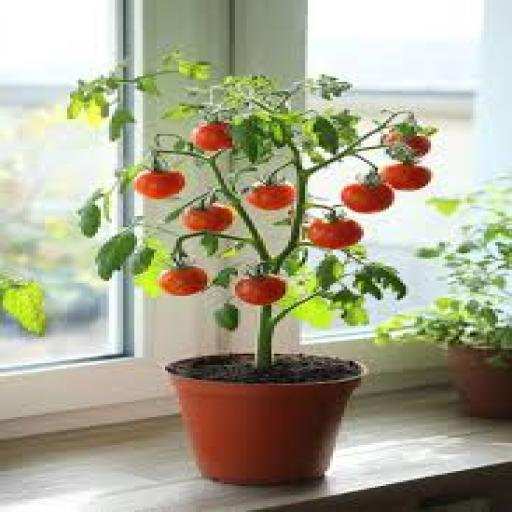tomato: (308, 218, 363, 249), (342, 183, 394, 214), (182, 203, 235, 232), (236, 274, 285, 305), (157, 267, 207, 296), (135, 170, 184, 199), (381, 164, 430, 191), (247, 183, 296, 210), (384, 131, 430, 158), (191, 122, 232, 150)
